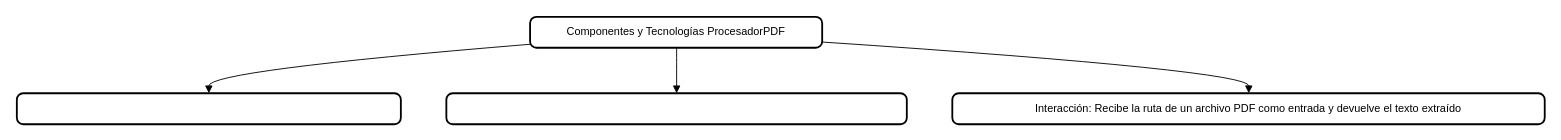
Image size: 1561x140. Some labels were removed from this diagram. Each missing label, with the centre of its shape:
Función: Extrae el texto completo de un documento PDF: (208,108)
Tecnología: Utiliza PyPDF2 para leer y extraer texto de archivos PDF: (676,108)
